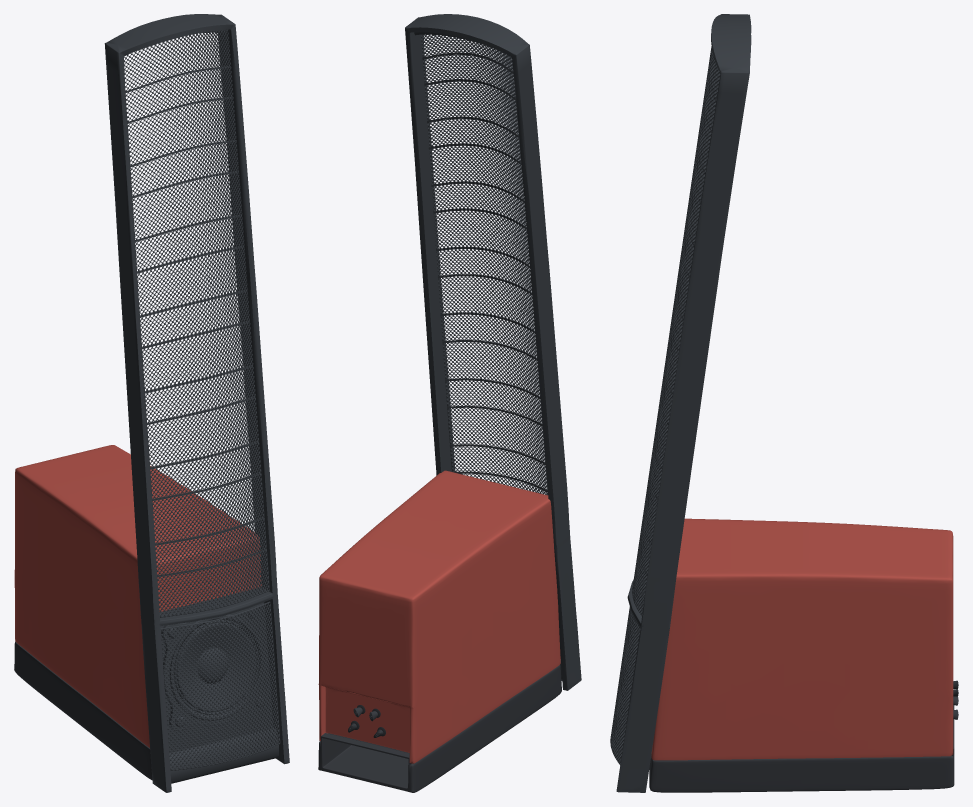
Rendered from floorstanding-loudspeaker.glb.
3 renders of one model, left to right at view 1: azimuth 30°, elevation 25°; view 2: azimuth 150°, elevation 25°; view 3: azimuth 270°, elevation 25°, orthographic. The views are drawn at different scales.
Parts seen in each view (by area): view 1: Speaker, Base_Wood, Base_Floor; view 2: Speaker, Base_Wood, Base_Floor; view 3: Base_Wood, Speaker, Base_Floor.
Part boxes in pixels (x1,y1,x2,y2): Speaker: (104,14,289,792); Base_Wood: (14,445,261,747); Base_Floor: (14,641,152,780); Speaker: (405,14,581,690); Base_Wood: (318,470,560,763); Base_Floor: (318,665,561,792); Base_Wood: (651,518,953,760); Speaker: (610,14,751,792); Base_Floor: (649,705,954,792).
Size of the model in its own units: 0.6539 by 3.62 by 1.56.
